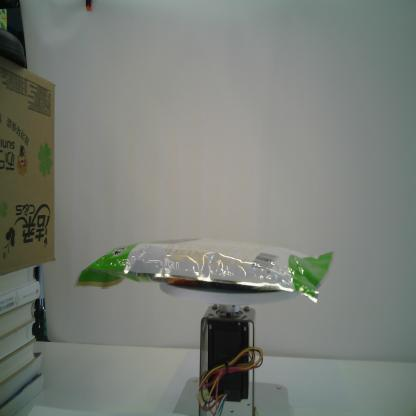Dried Food: (73, 233, 335, 308)
